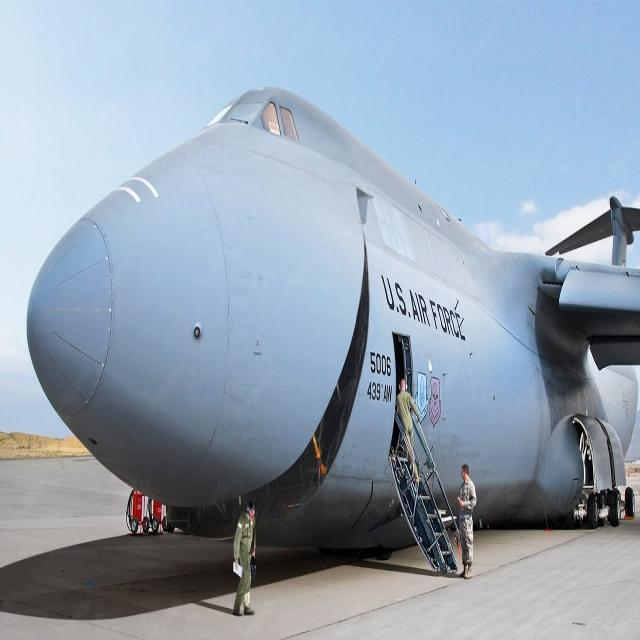C5: (20, 57, 640, 640)
